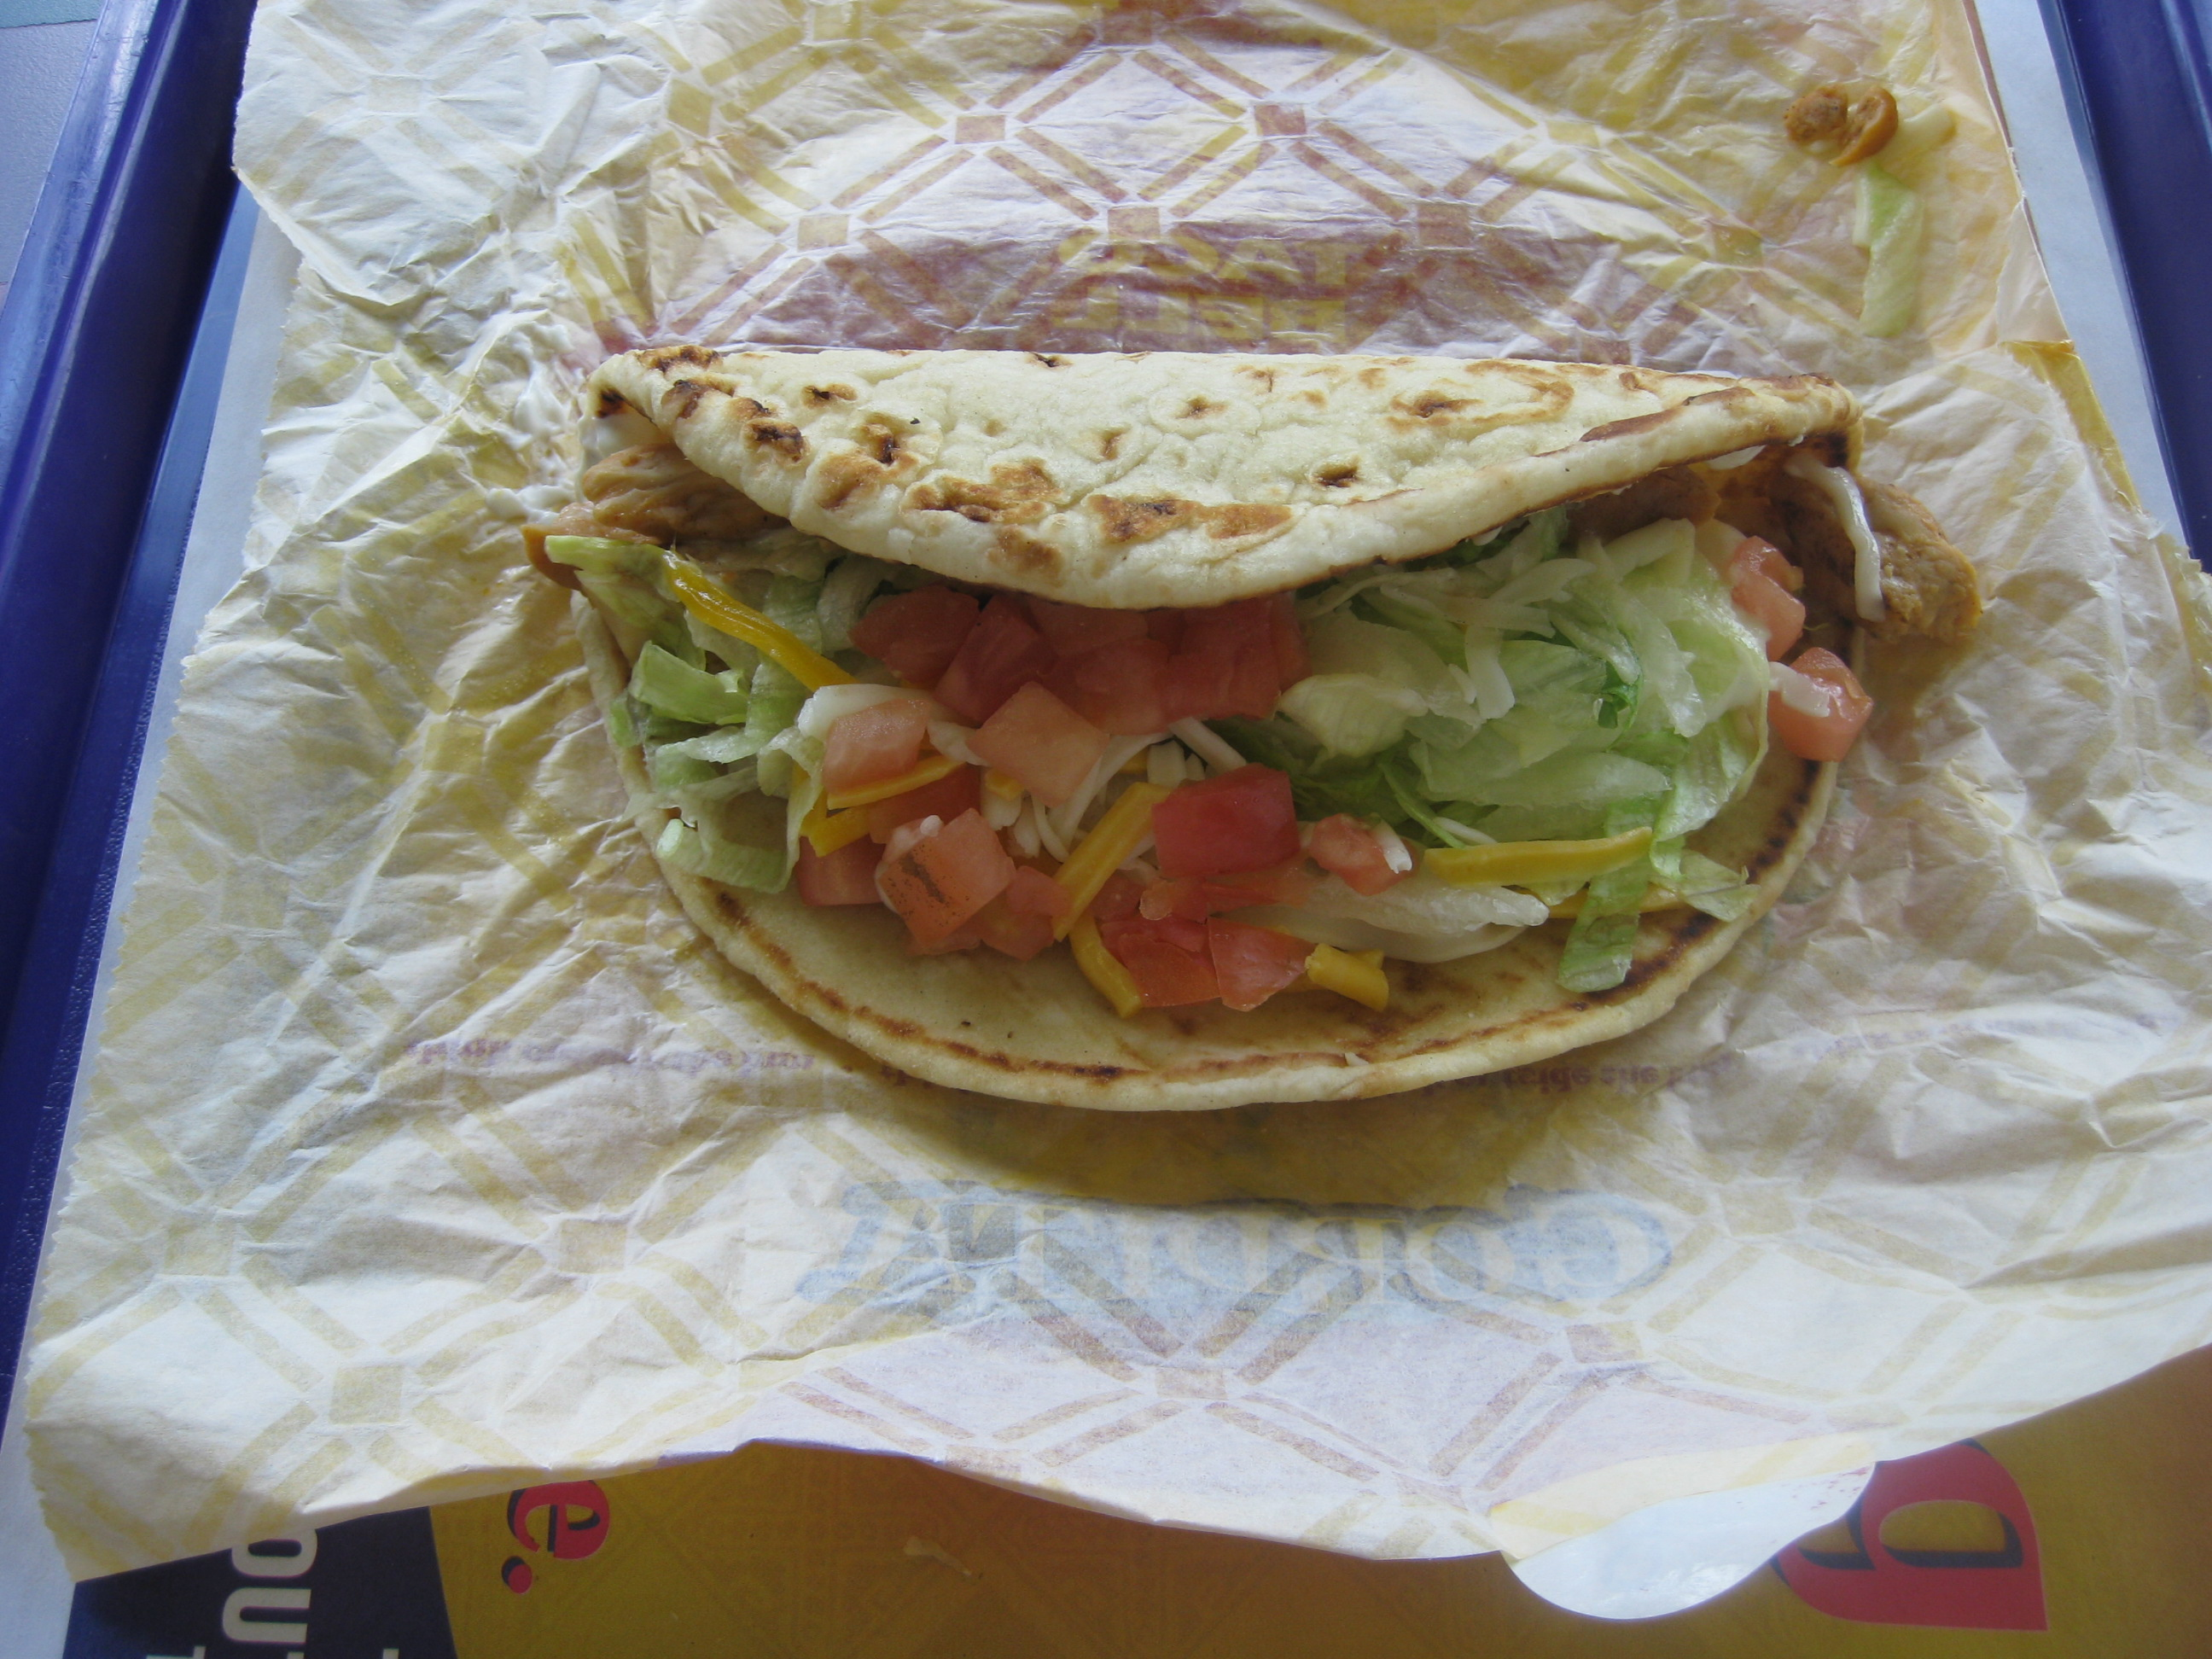taco: (571, 294, 1915, 1091)
